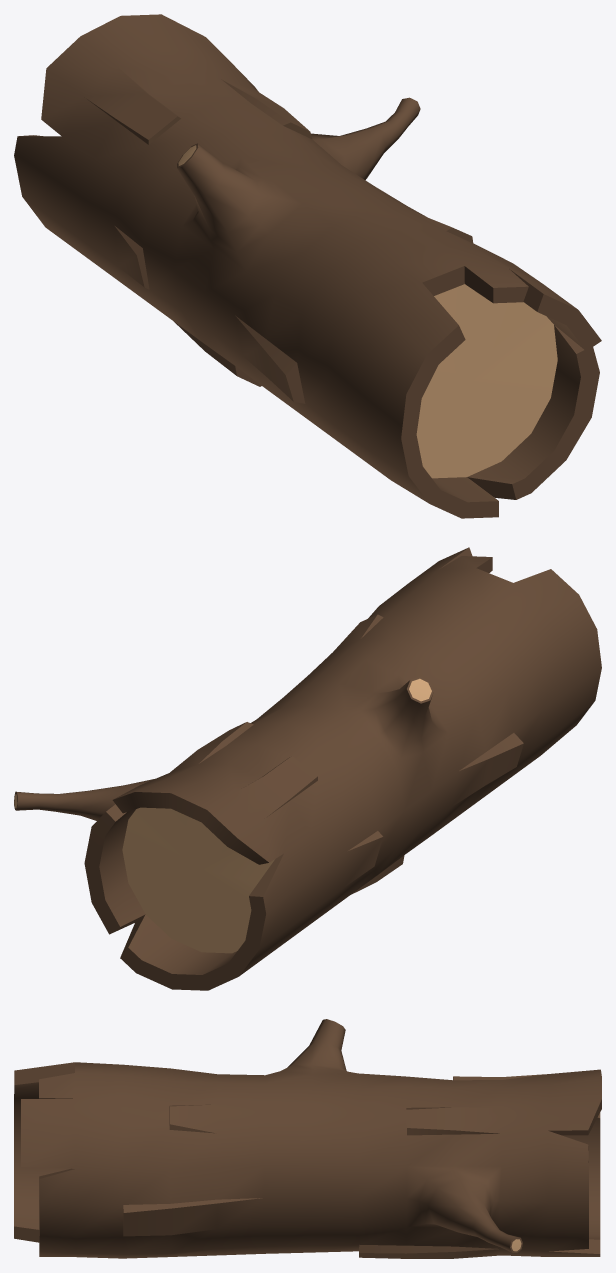
The model's file is PF_log_1-col.glb.
3 renders of one model, top to bottom at view 1: azimuth 30°, elevation 25°; view 2: azimuth 150°, elevation 25°; view 3: azimuth 270°, elevation 25°, orthographic. The views are drawn at different scales.
Visible parts, largest first — view 1: PF_log_1-col; view 2: PF_log_1-col; view 3: PF_log_1-col.
Part boxes in pixels (x1,y1,x2,y2): PF_log_1-col: (14, 14, 601, 518); PF_log_1-col: (14, 547, 601, 990); PF_log_1-col: (14, 1019, 601, 1258).
Bounding box in the file's own units: 1.87 × 1.25 × 3.48.
1 material, 1 textured.
